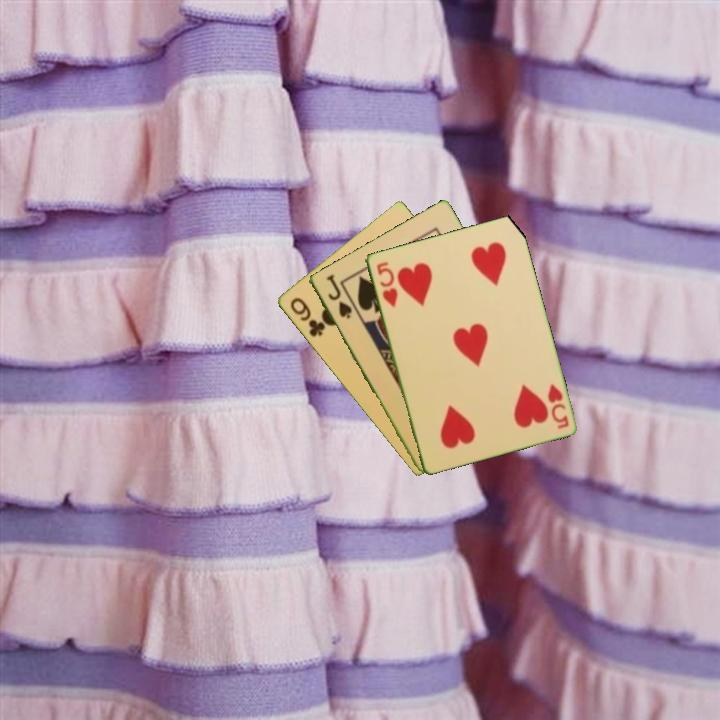5h: (544, 380, 572, 431), (373, 258, 400, 310)
9c: (286, 294, 328, 340)
Js: (322, 271, 354, 322)
